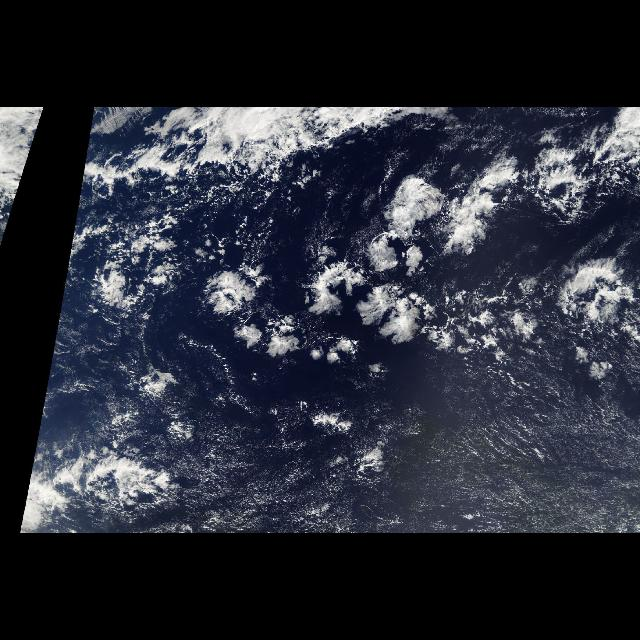Flower: (192, 132, 640, 380)
Gravel: (148, 180, 636, 382)
Sugar: (205, 375, 639, 533)
